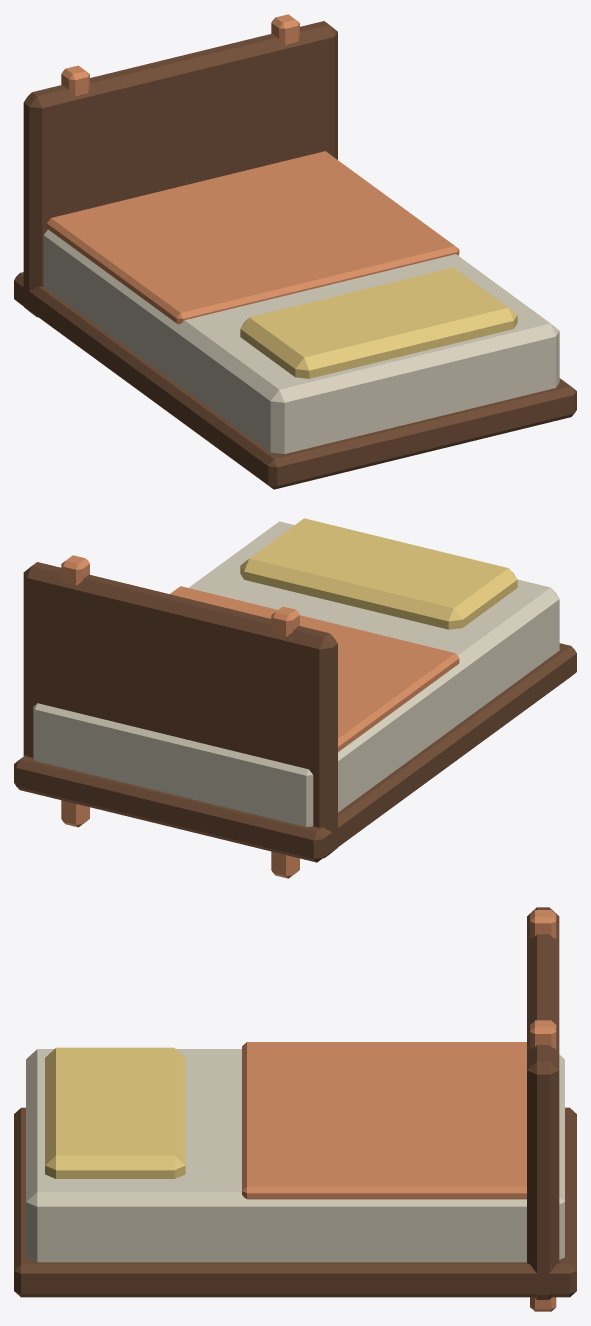
File: fancy_bed.glb
The picture shows the model from 3 angles, top to bottom: view 1: azimuth 30°, elevation 25°; view 2: azimuth 150°, elevation 25°; view 3: azimuth 270°, elevation 25°; orthographic projection. The views are drawn at different scales.
Bounding box in the file's own units: 1.9 × 1.55 × 2.78.
